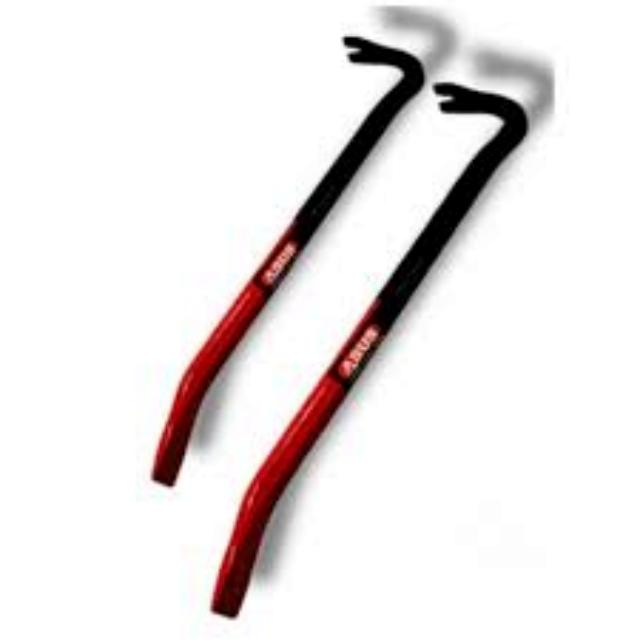crow bar: (162, 46, 568, 632), (68, 13, 462, 505)
